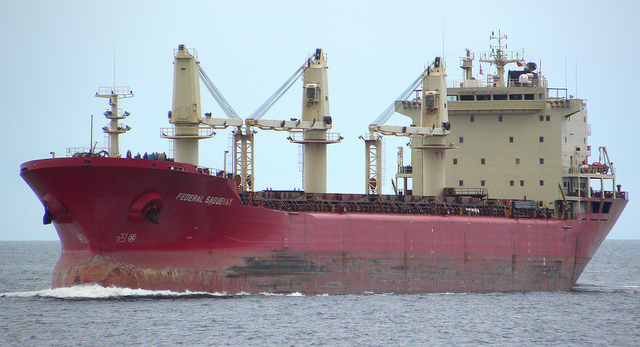bulk carrier: (20, 33, 625, 294)
